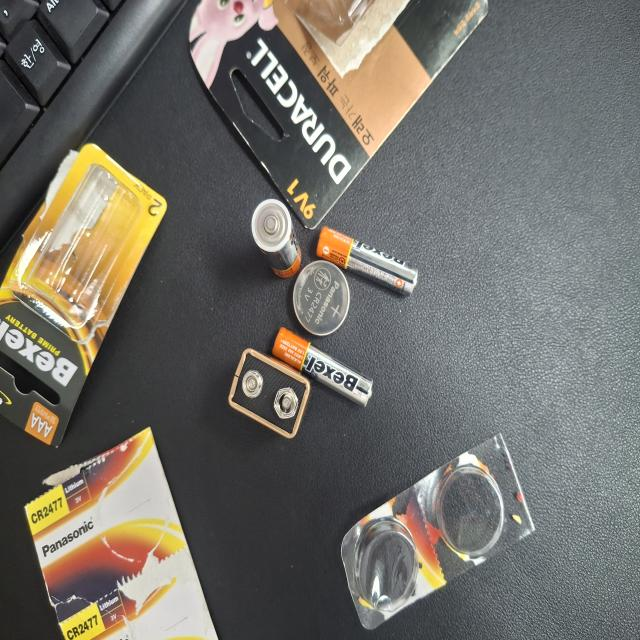9V: (150, 304, 218, 415)
AA: (272, 335, 331, 401)
AAA: (176, 363, 234, 497), (258, 422, 310, 557)
COIN: (229, 393, 284, 465)
